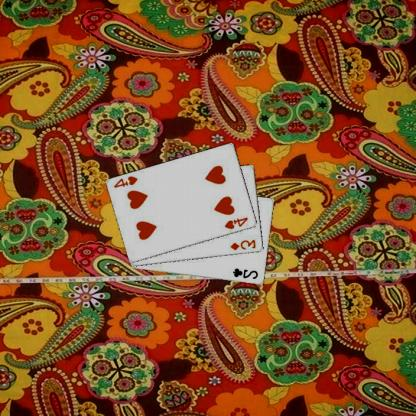2C: (232, 266, 261, 281)
3D: (229, 237, 259, 251)
4H: (224, 214, 251, 231), (114, 174, 140, 189)
